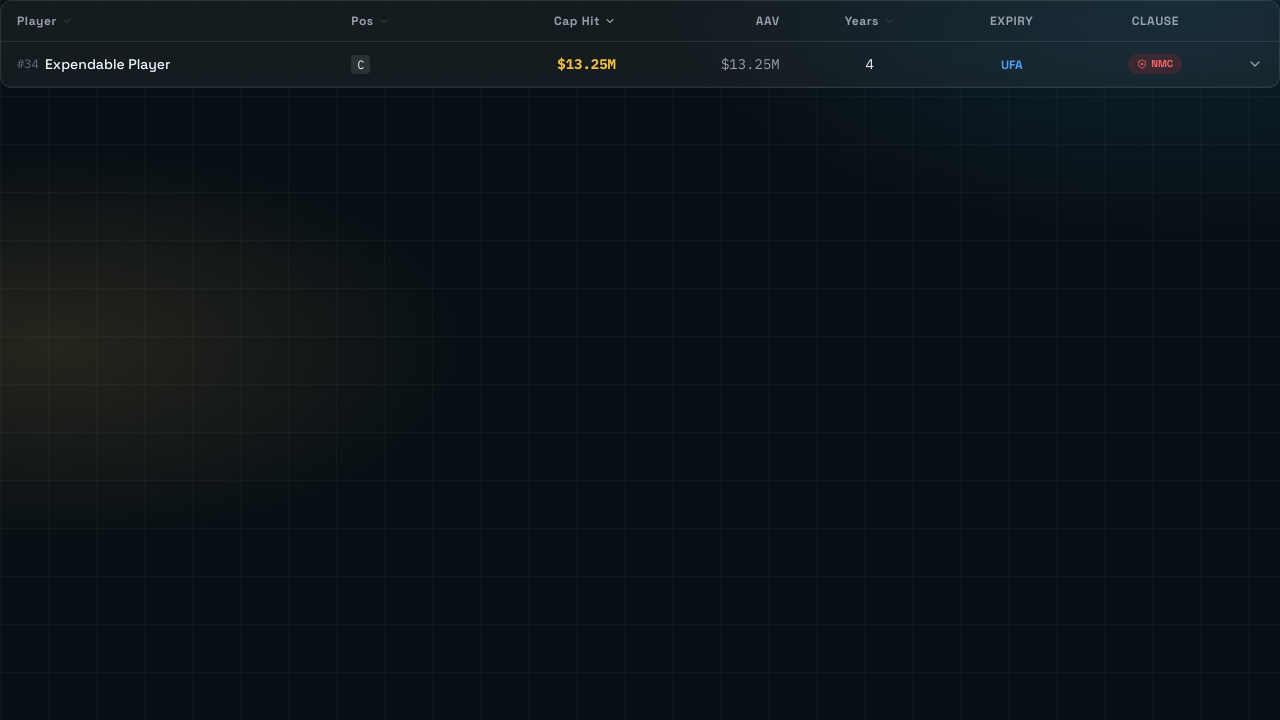
Test: ContractsTable › expands contract detail on click
Check: the text "Contract Breakdown" is not shown
// Click the row
Click the text "Expendable Player" at (108, 64), box [45,54,170,74]
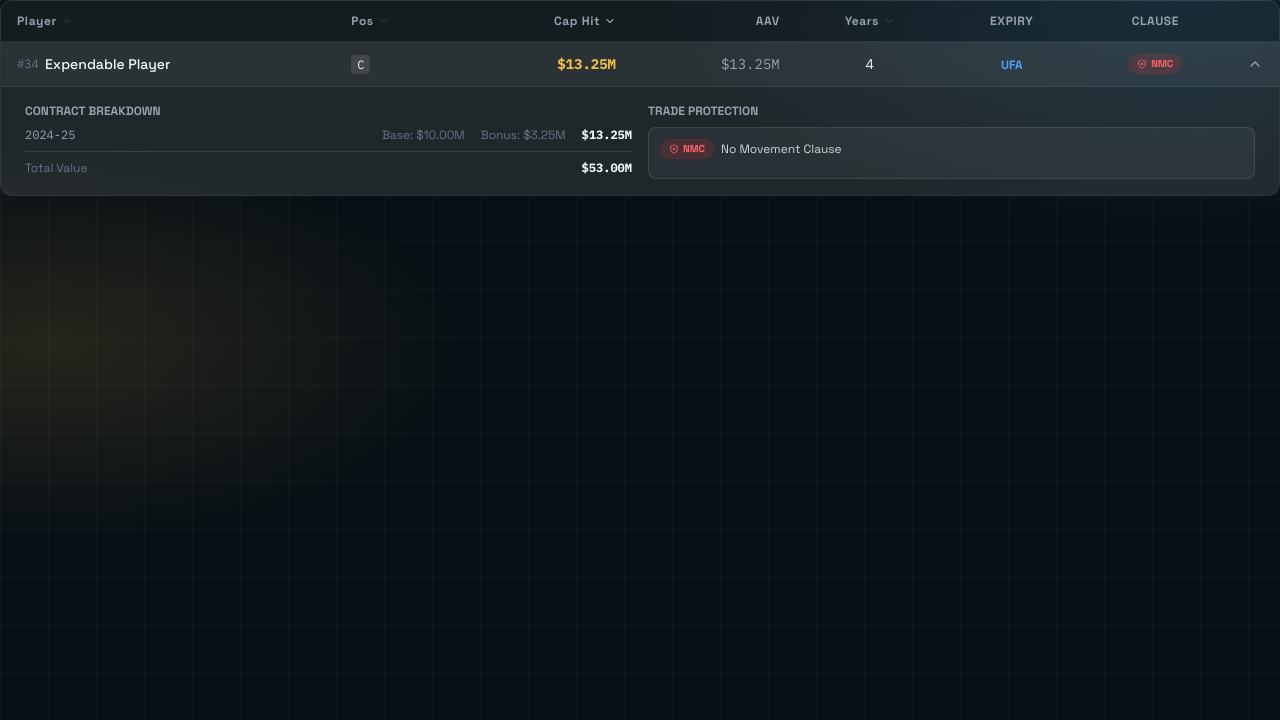
Check: the heading "Contract Breakdown" is shown, box [25,103,160,119]
Check: the heading "Trade Protection" is shown, box [648,103,758,119]
